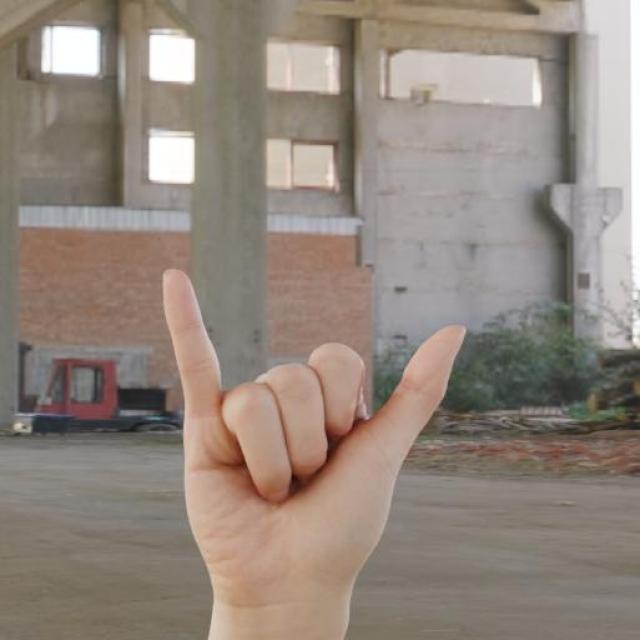Y: (157, 265, 470, 610)
